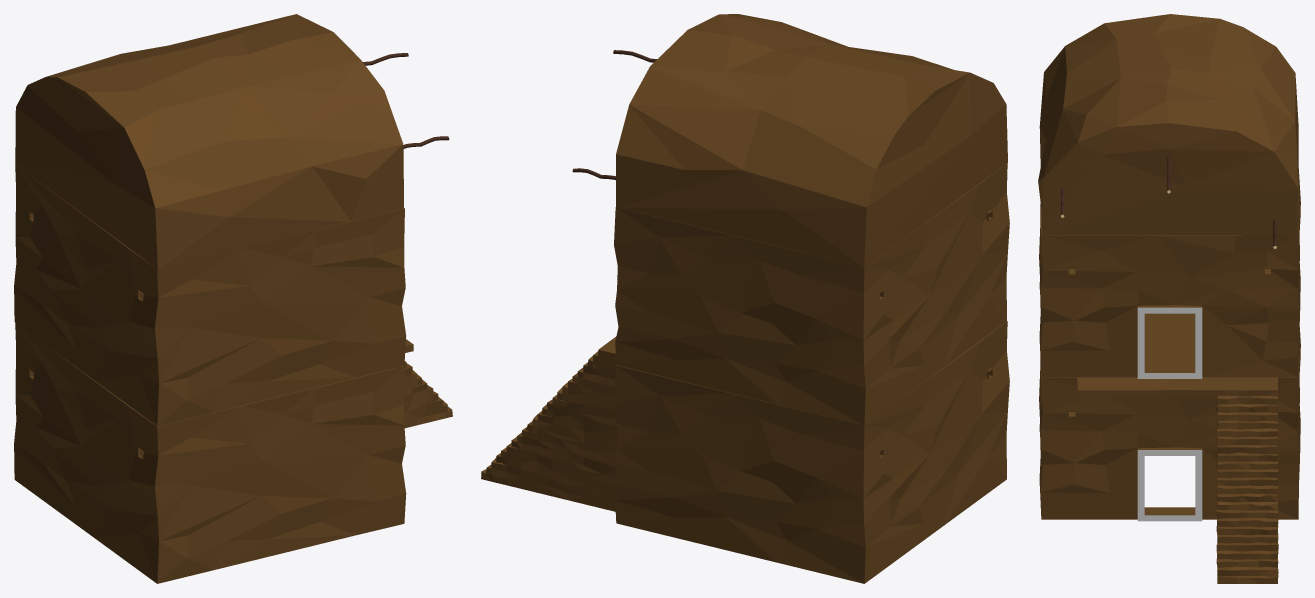
Rendered from Tunisia1_colored_test (3).fbx.
3 renders of one model, left to right at view 1: azimuth 30°, elevation 25°; view 2: azimuth 150°, elevation 25°; view 3: azimuth 270°, elevation 25°, orthographic. The views are drawn at different scales.
Visible parts, largest first — view 1: Tunisia 1; view 2: Tunisia 1; view 3: Tunisia 1.
Boxes of the visible parts, x1,y1,x2,y2 form: Tunisia 1: (14, 14, 452, 583); Tunisia 1: (481, 14, 1009, 583); Tunisia 1: (1038, 14, 1300, 583).
Size of the model in its own units: 1566 by 1675 by 996.
1 material, 1 textured.
